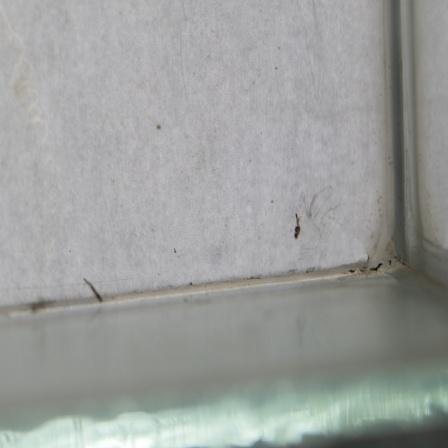Jentik-Nyamuk: (289, 220, 305, 245)
